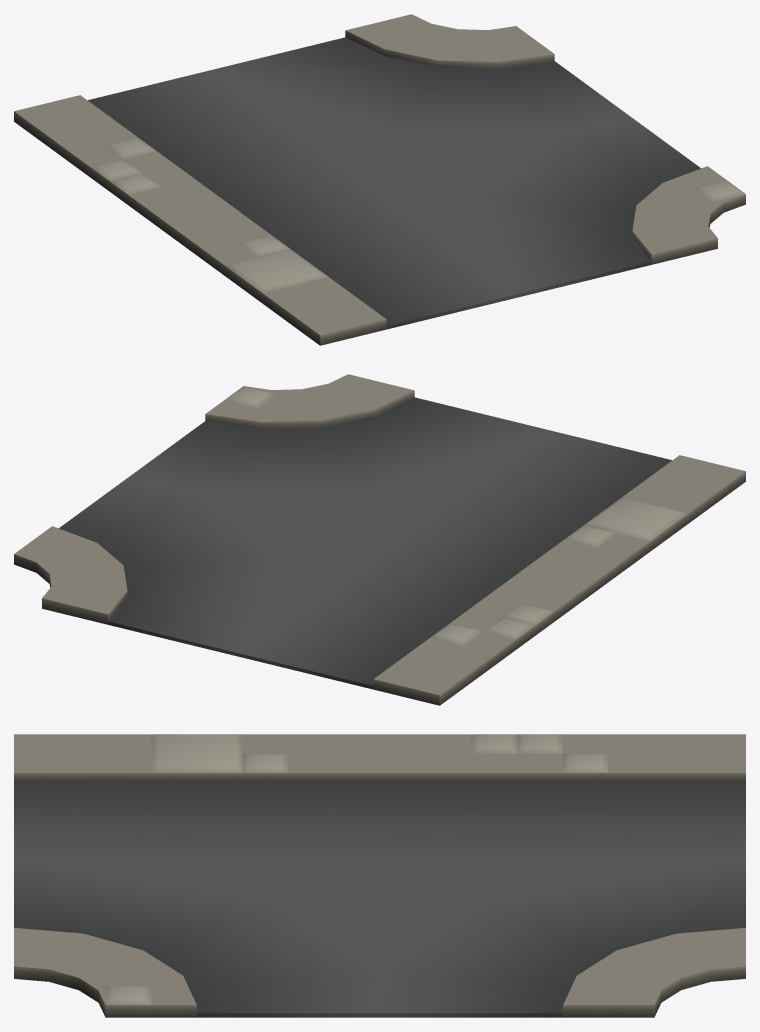
Rendered from Road_1H.fbx.
3 renders of one model, top to bottom at view 1: azimuth 30°, elevation 25°; view 2: azimuth 150°, elevation 25°; view 3: azimuth 270°, elevation 25°, orthographic. The views are drawn at different scales.
Visible parts, largest first — view 1: Road_1H; view 2: Road_1H; view 3: Road_1H.
Boxes of the visible parts, left/top/right/bottom form: Road_1H: left=14, top=14, right=745, bottom=345; Road_1H: left=14, top=374, right=745, bottom=705; Road_1H: left=14, top=734, right=745, bottom=1017.
Size of the model in its own units: 14 by 0.3565 by 16.
